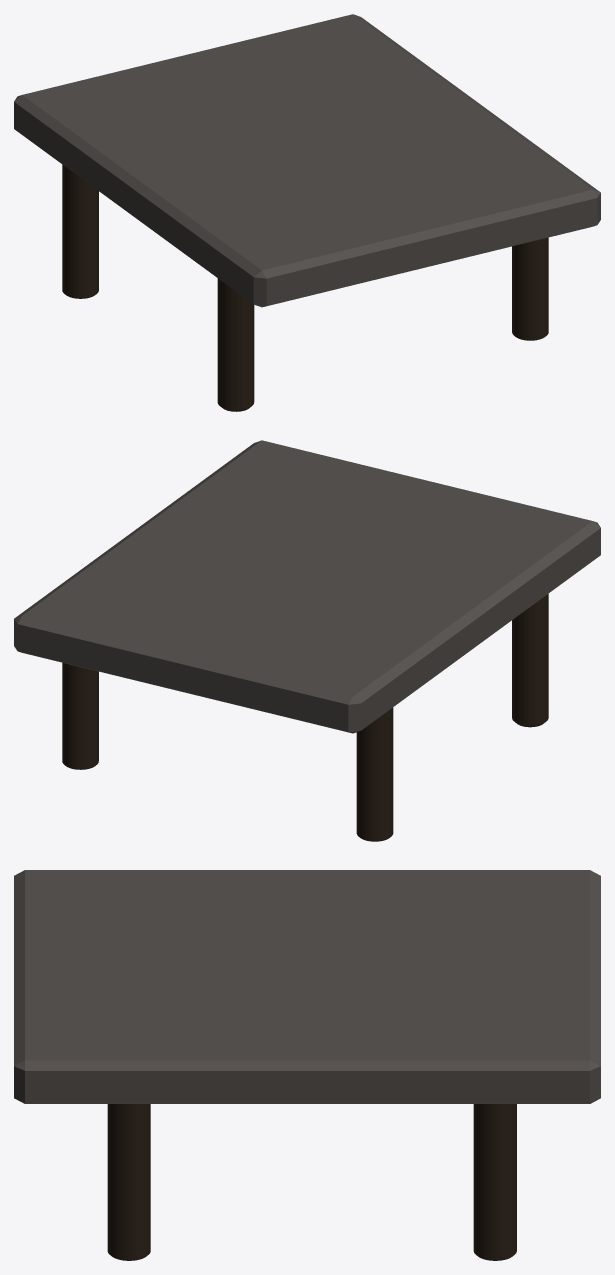
Rendered from tableupdate.fbx.
The picture shows the model from 3 angles, top to bottom: view 1: azimuth 30°, elevation 25°; view 2: azimuth 150°, elevation 25°; view 3: azimuth 270°, elevation 25°; orthographic projection. The views are drawn at different scales.
Parts seen in each view (by area): view 1: pCylinder5; view 2: pCylinder5; view 3: pCylinder5.
Boxes of the visible parts, left/top/right/bottom form: pCylinder5: left=14, top=14, right=600, bottom=411; pCylinder5: left=14, top=440, right=600, bottom=841; pCylinder5: left=14, top=870, right=600, bottom=1260.
Bounding box in the file's own units: 3.56 × 1.68 × 4.42.
